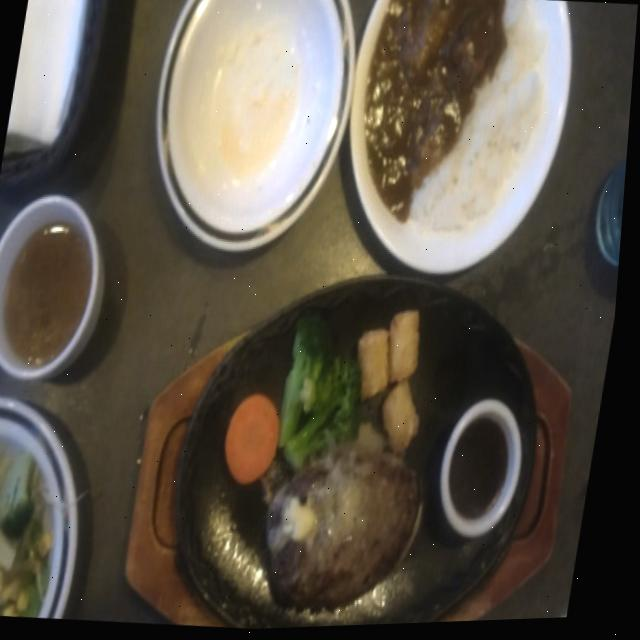牛肉菜式: (324, 0, 583, 282)
蔬菜料理: (0, 406, 91, 620)
